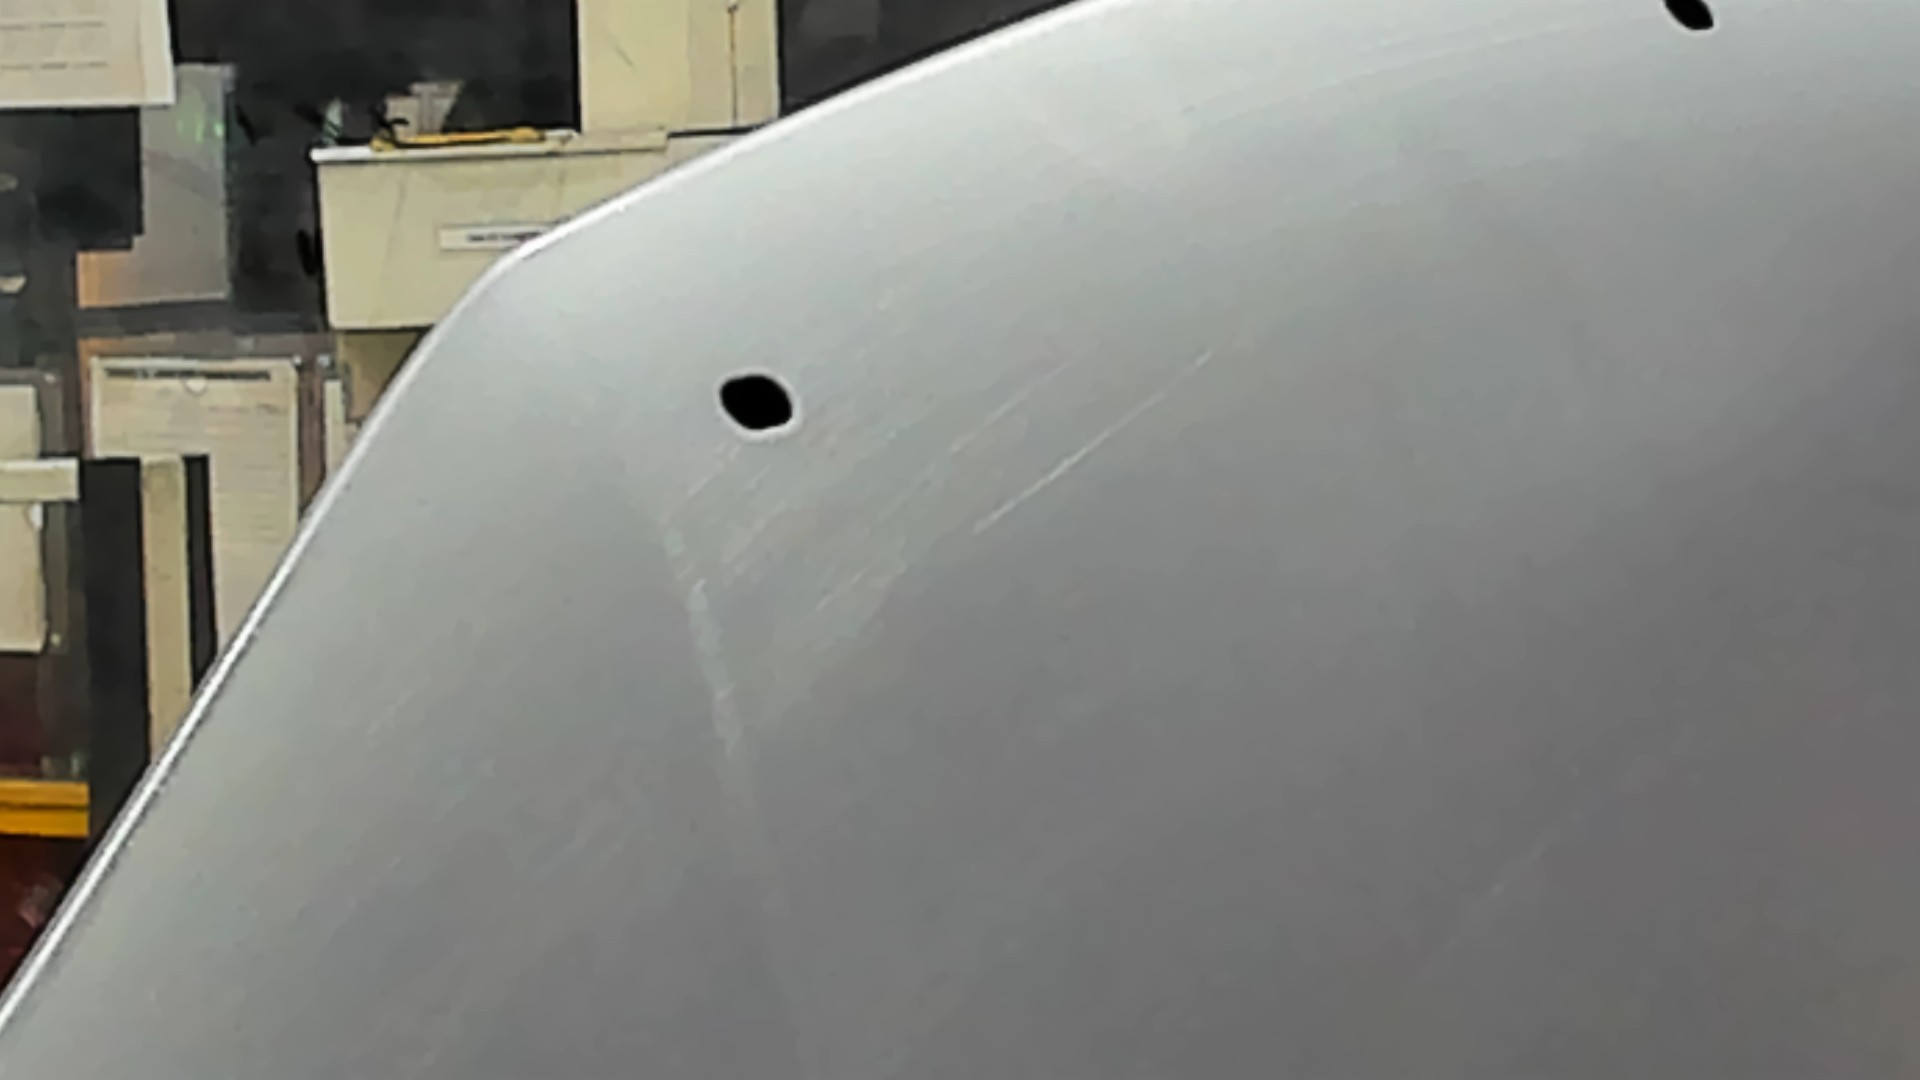Agujero: (717, 372, 798, 433), (1656, 1, 1718, 32)
